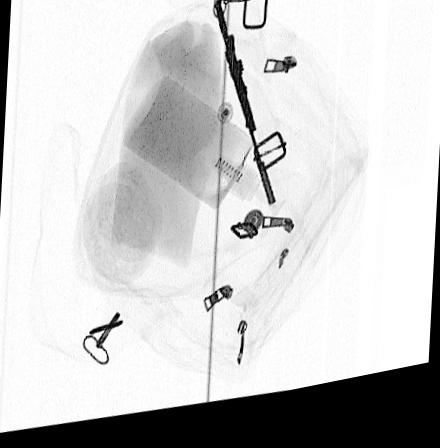Gun: (215, 7, 276, 216)
